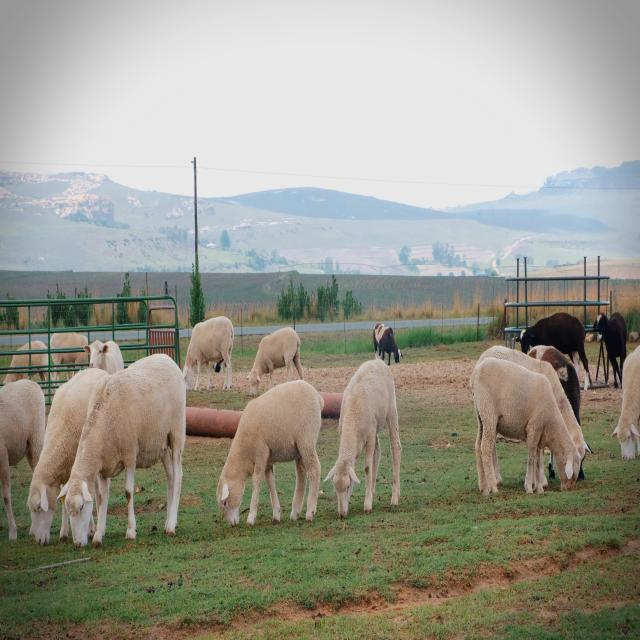sheep: (62, 337, 197, 560), (210, 370, 325, 553), (460, 350, 584, 512), (322, 352, 422, 538), (15, 359, 60, 553), (240, 314, 320, 402), (611, 342, 640, 464), (84, 329, 133, 384)
